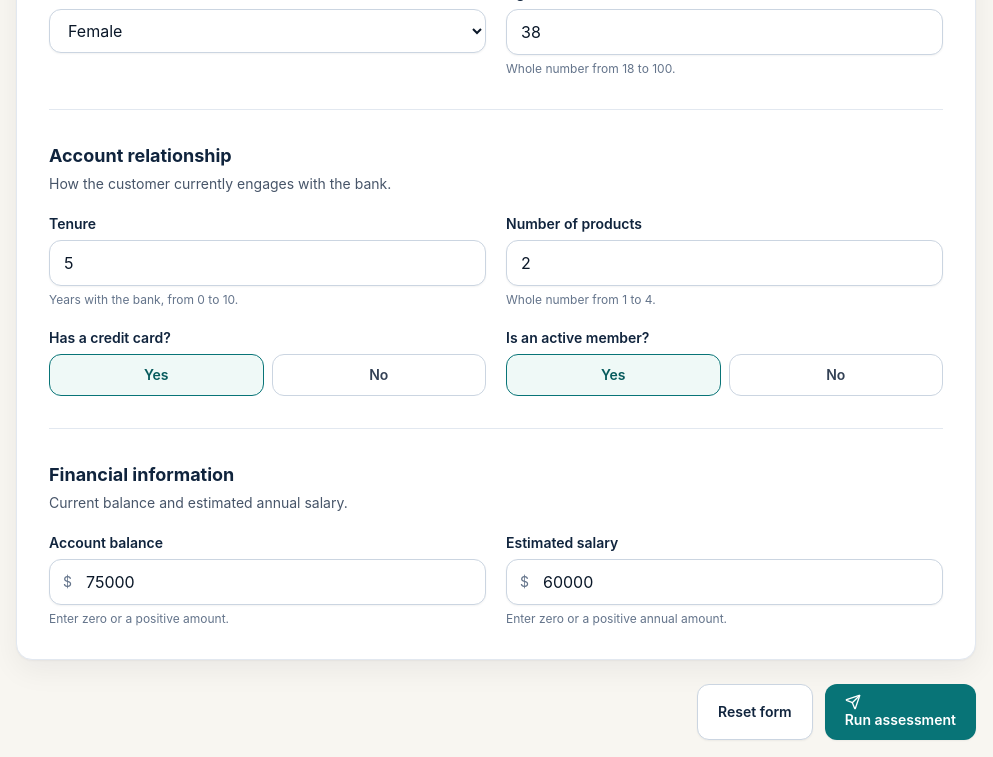
Test case: single prediction page › submits a valid assessment and shows the estimate
The width and height of the screenshot is (993, 757).
(page scrolled)
Click the button "Run assessment" at (900, 712), box [825,684,976,740]
(page scrolled)
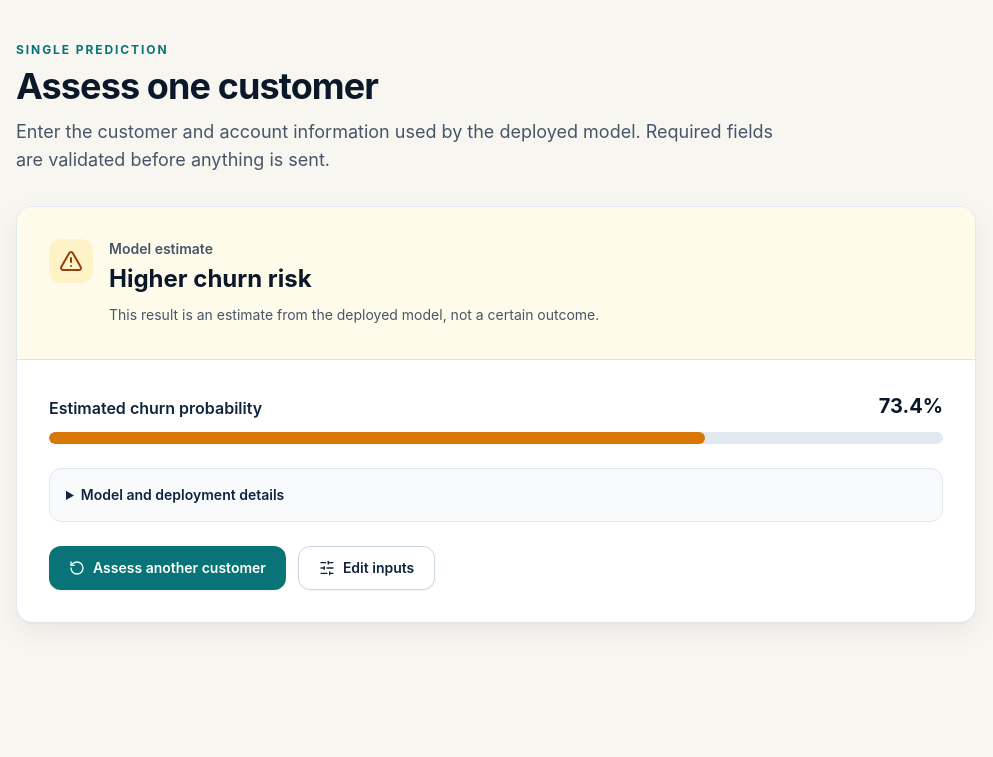
Now the heading "Higher churn risk" is shown, box [109,264,312,293]
Now the text "73.4%" is shown, box [879,392,943,420]
